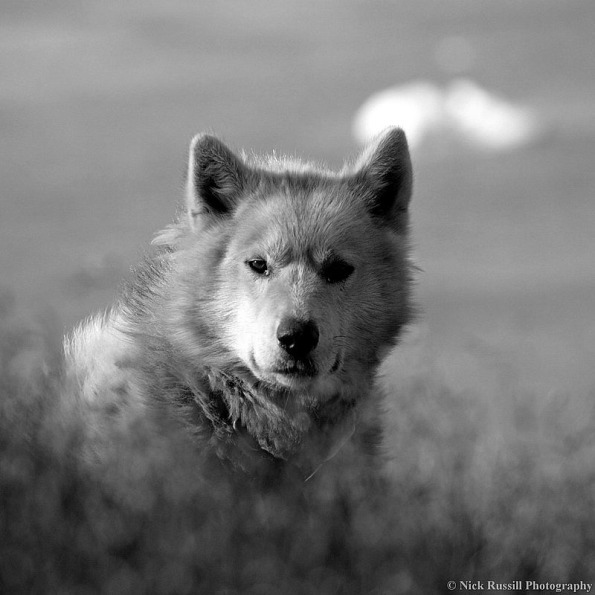dog: (0, 126, 413, 590)
